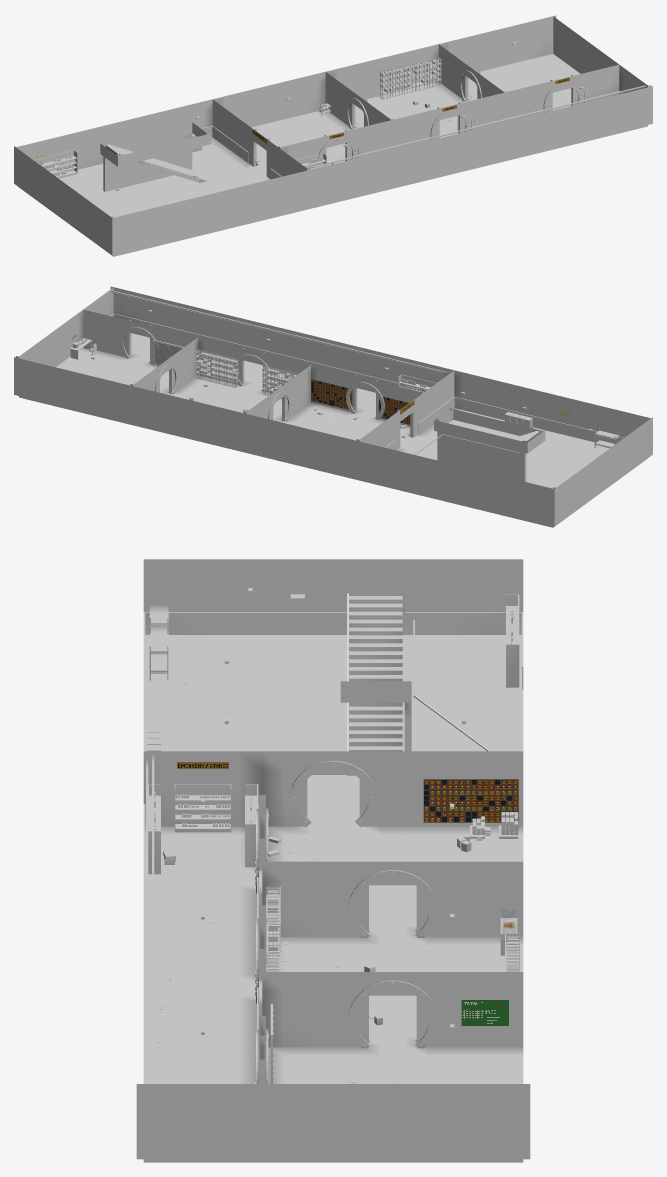
Rendered from th_vault.glb.
The picture shows the model from 3 angles, top to bottom: view 1: azimuth 30°, elevation 25°; view 2: azimuth 150°, elevation 25°; view 3: azimuth 270°, elevation 25°; orthographic projection. The views are drawn at different scales.
Parts seen in each view (by area): view 1: th_vault; view 2: th_vault; view 3: th_vault.
Part boxes in pixels (x1=…): th_vault: x1=14, y1=15, x2=652, y2=256; th_vault: x1=14, y1=286, x2=652, y2=527; th_vault: x1=136, y1=559, x2=530, y2=1162.
Bounding box in the file's own units: 52.6 × 4.81 × 16.6.
4 materials, 3 textured.
